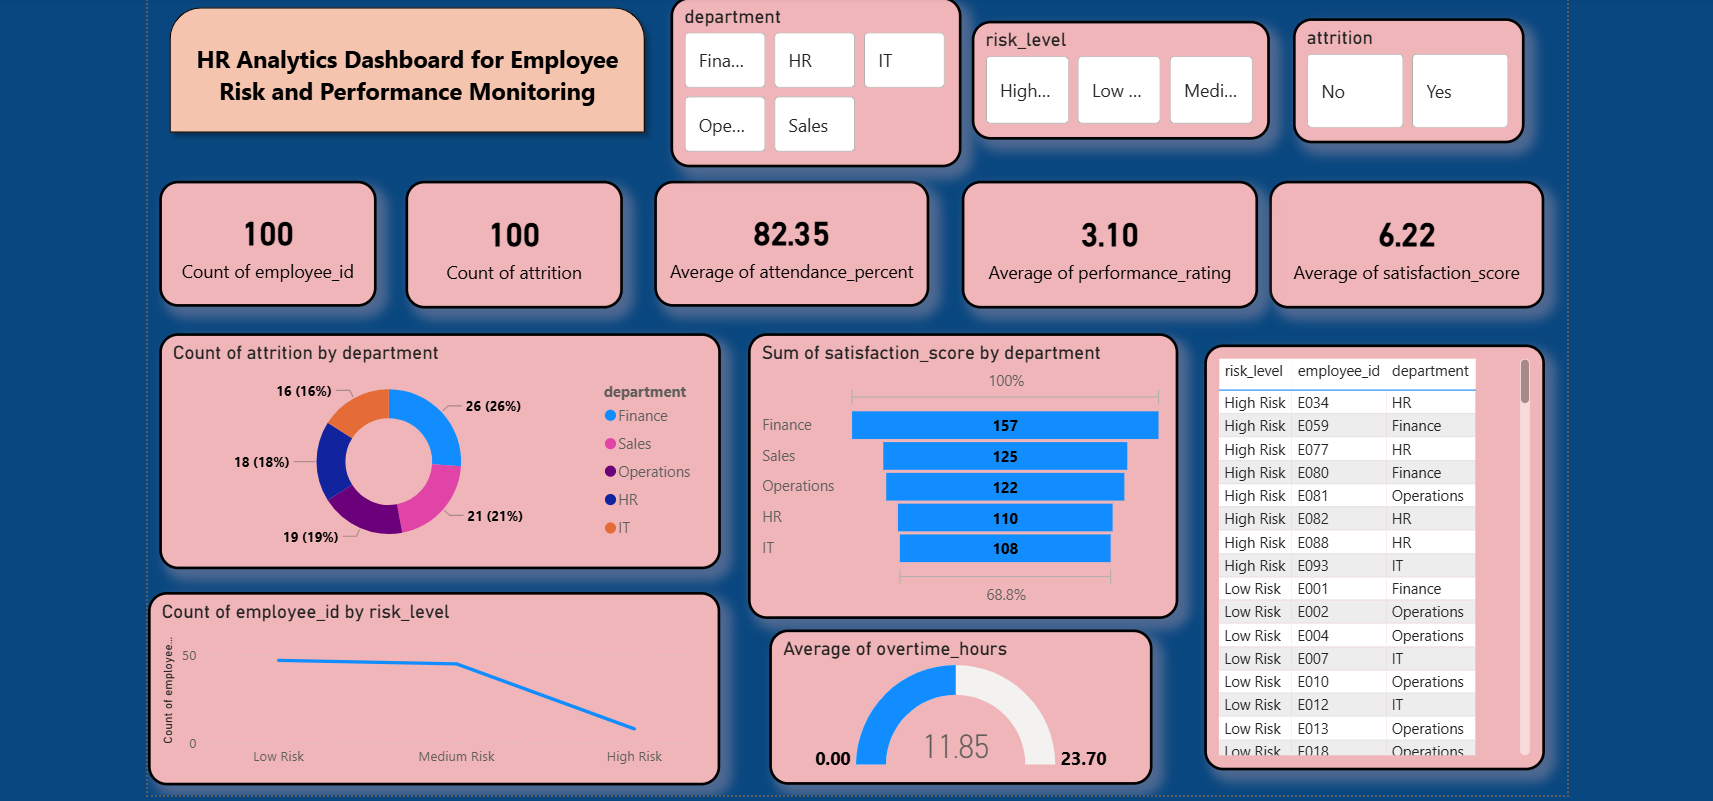

Layout of this report page (visuals, bound fields, positions):
{"tool":"powerbi","page":{"name":"Page 1","canvas":[1280,720],"ordinal":0},"visuals":[{"type":"card","fields":{"Values":["CountNonNull(final_project_output.employee_id)"]},"box":[9.6,166,196.2,113.9],"z":0},{"type":"card","fields":{"Values":["CountNonNull(final_project_output.attrition)"]},"box":[231.9,166,196.2,115.3],"z":1000},{"type":"card","fields":{"Values":["Avg(final_project_output.satisfaction_score)"]},"box":[1011.3,166,248.4,115.3],"z":2000},{"type":"card","fields":{"Values":["Avg(final_project_output.attendance_percent)"]},"box":[456.9,166,248.4,113.9],"z":3000},{"type":"card","fields":{"Values":["Avg(final_project_output.performance_rating)"]},"box":[734.1,166,267.6,115.3],"z":4000},{"type":"donutChart","fields":{"Category":["final_project_output.department"],"Y":["CountNonNull(final_project_output.attrition)"]},"box":[9.6,303.3,506.3,212.7],"z":5000},{"type":"lineChart","fields":{"Category":["final_project_output.risk_level"],"Y":["CountNonNull(final_project_output.employee_id)"]},"box":[0,536.5,516,174.3],"z":6000},{"type":"funnel","fields":{"Category":["final_project_output.department"],"Y":["Sum(final_project_output.satisfaction_score)"]},"box":[540.7,303.3,388.3,258],"z":6001},{"type":"gauge","fields":{"Y":["Avg(final_project_output.overtime_hours)"]},"box":[559.9,570.8,345.8,140],"z":6002},{"type":"tableEx","fields":{"Values":["final_project_output.risk_level","final_project_output.employee_id","final_project_output.department"]},"box":[952.3,312.9,307.4,384.2],"z":6003},{"type":"advancedSlicerVisual","fields":{"Values":["final_project_output.department"]},"box":[470.7,0,262.1,153.7],"z":6004},{"type":"advancedSlicerVisual","fields":{"Values":["final_project_output.risk_level"]},"box":[742.4,22,269,107],"z":6005},{"type":"advancedSlicerVisual","fields":{"Values":["final_project_output.attrition"]},"box":[1031.9,19.2,208.6,112.5],"z":6006},{"type":"shape","box":[9.6,0,447.3,131.7],"z":6007}]}

Visuals, with their boxes in screenshot pixels (x1, y1, x2, y2):
card - CountNonNull(final_project_output.employee_id): (x1=162, y1=178, x2=378, y2=303)
card - CountNonNull(final_project_output.attrition): (x1=407, y1=178, x2=623, y2=305)
card - Avg(final_project_output.satisfaction_score): (x1=1264, y1=178, x2=1537, y2=305)
card - Avg(final_project_output.attendance_percent): (x1=654, y1=178, x2=927, y2=303)
card - Avg(final_project_output.performance_rating): (x1=959, y1=178, x2=1253, y2=305)
donutChart - final_project_output.department x CountNonNull(final_project_output.attrition): (x1=162, y1=329, x2=719, y2=563)
lineChart - final_project_output.risk_level x CountNonNull(final_project_output.employee_id): (x1=152, y1=586, x2=719, y2=777)
funnel - final_project_output.department x Sum(final_project_output.satisfaction_score): (x1=746, y1=329, x2=1173, y2=613)
gauge - Avg(final_project_output.overtime_hours): (x1=767, y1=623, x2=1148, y2=777)
tableEx - final_project_output.risk_level x final_project_output.employee_id: (x1=1199, y1=340, x2=1537, y2=762)
advancedSlicerVisual - final_project_output.department: (x1=669, y1=0, x2=958, y2=165)
advancedSlicerVisual - final_project_output.risk_level: (x1=968, y1=20, x2=1264, y2=137)
advancedSlicerVisual - final_project_output.attrition: (x1=1287, y1=17, x2=1516, y2=140)
shape: (x1=162, y1=0, x2=654, y2=140)
